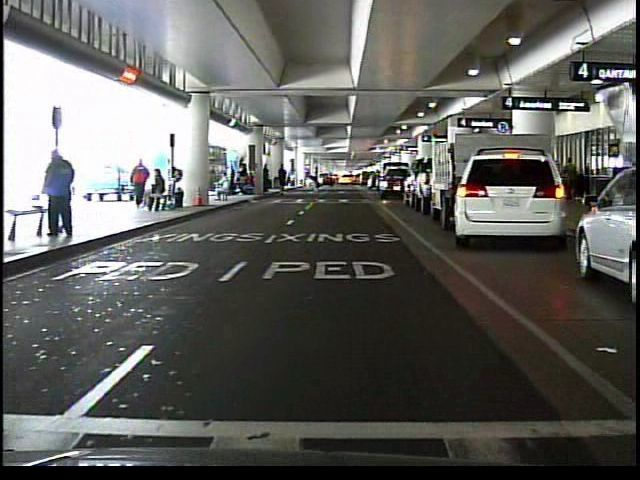person: (42, 145, 84, 241), (213, 170, 232, 206), (309, 163, 323, 193)
